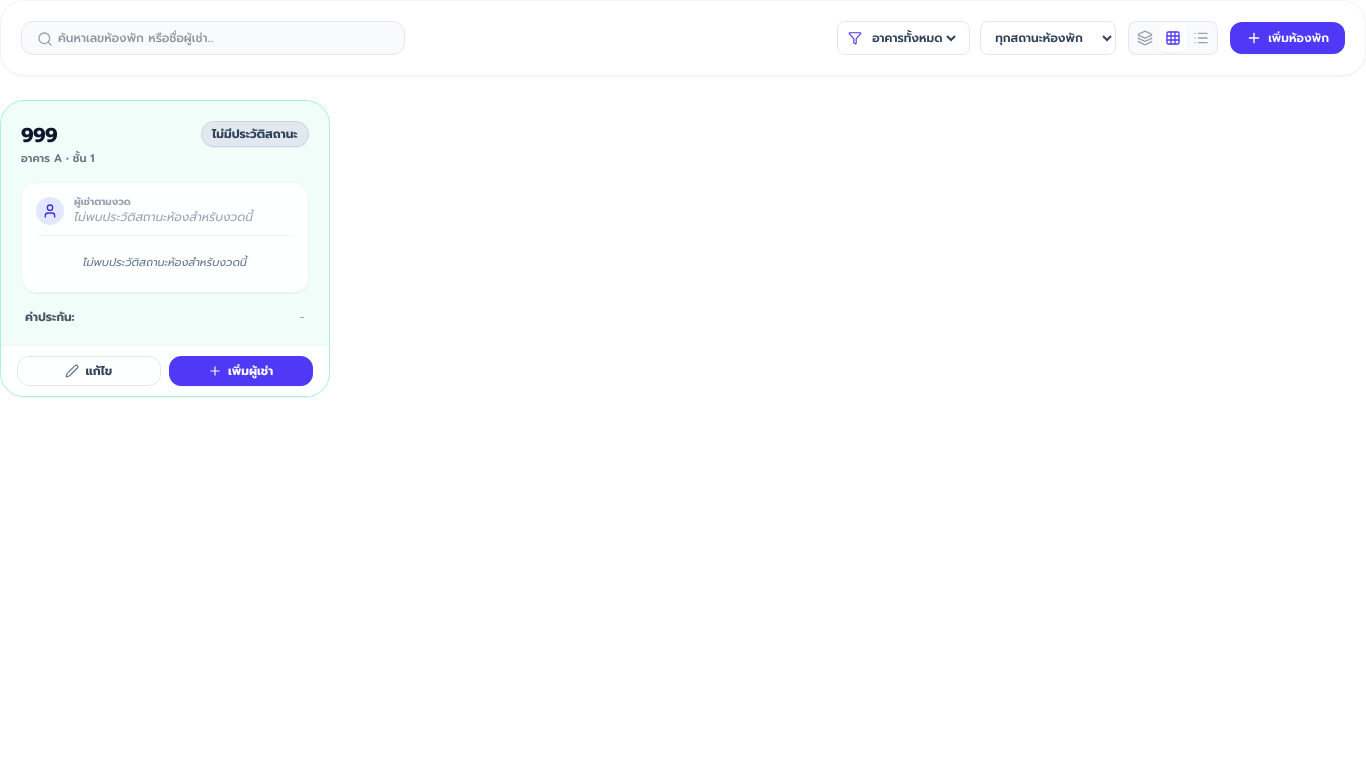
Test case: OWNER ROOMS R2 & R2.1 — Rent-Cycle Deposit Model & Hardened Specifications › OWNER ROOMS R3.4a — Canonical Maintenance Eligibility & Presentation Order › T3 — Permitted maintenance room allows setting maintenance status in edit modal
Step 1. Click the button titled "แก้ไขรายละเอียดห้องพัก" → (89, 371), box [17,356,161,386]
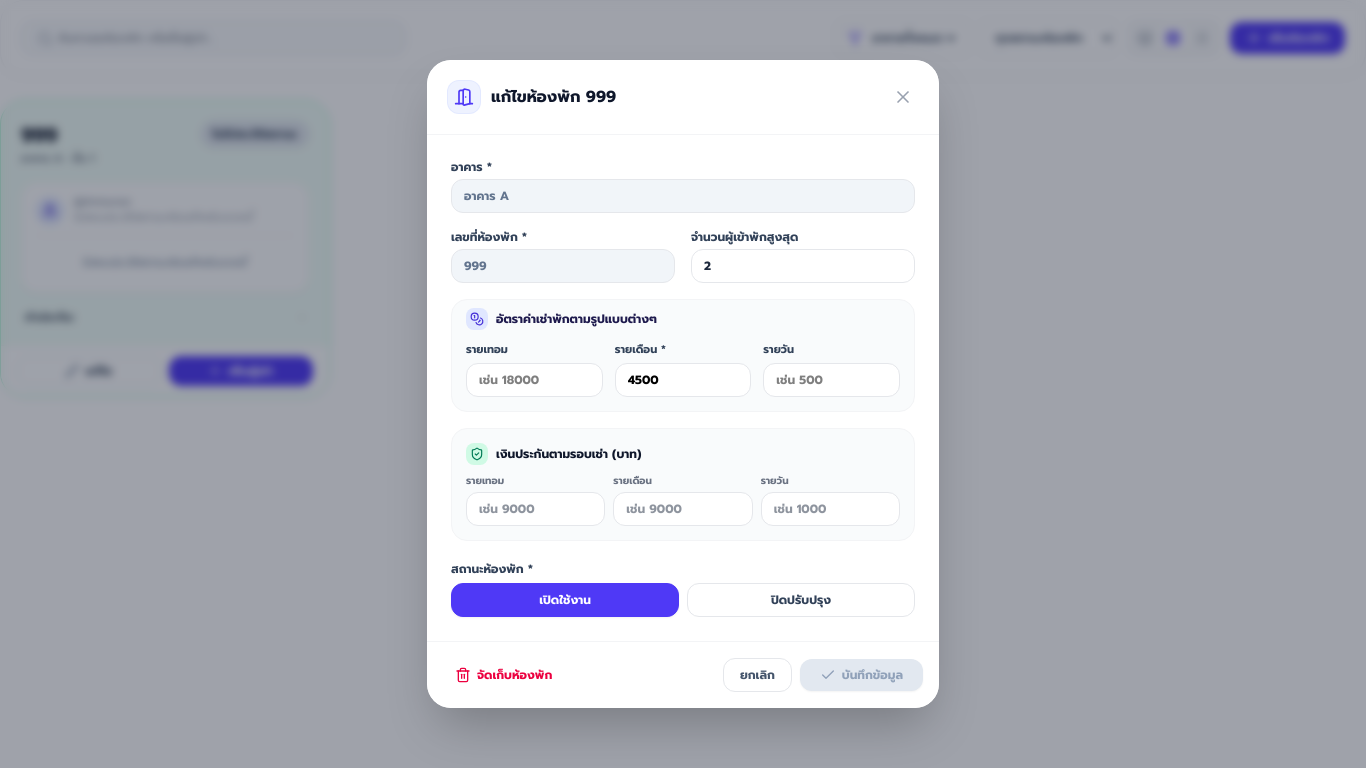
Check: the button "ปิดปรับปรุง" is enabled, box [687,583,915,617]
